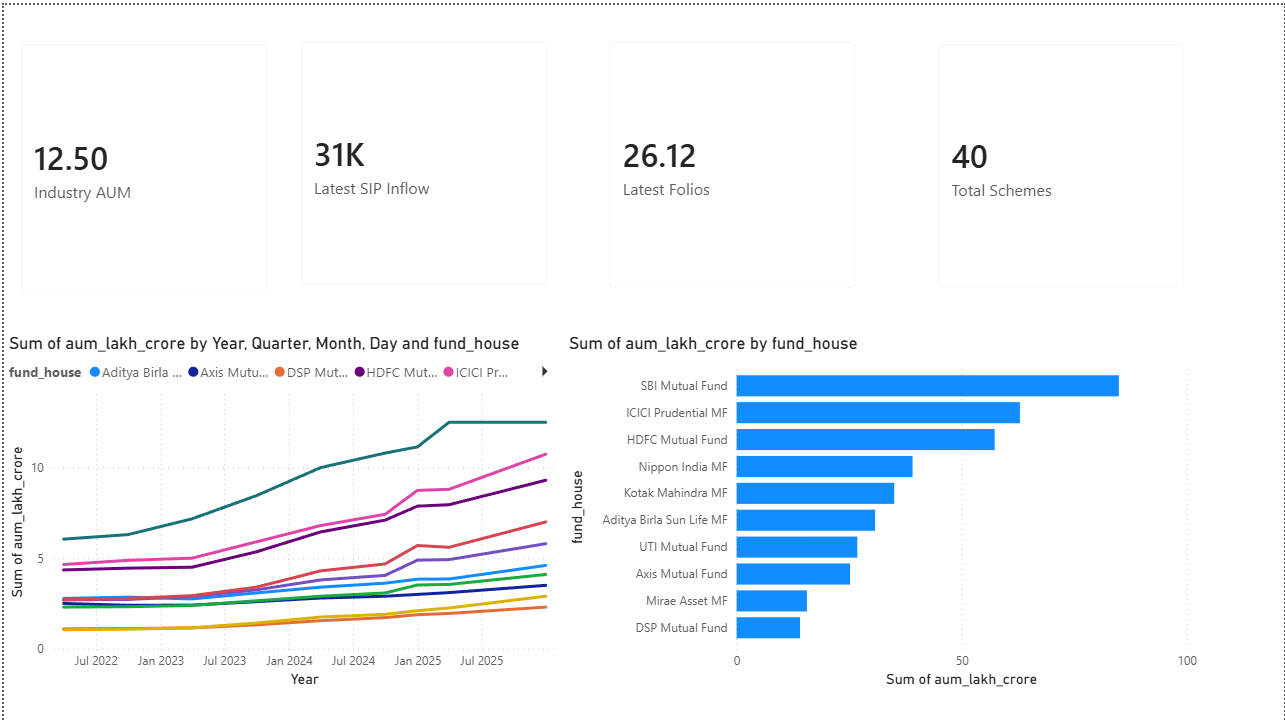

This screenshot's page, from the dashboard's own definition file:
{"tool":"powerbi","page":{"name":"Industry Overview","canvas":[1280,720],"ordinal":0},"visuals":[{"type":"cardVisual","fields":{"Data":["03_aum_by_fund_house.Industry AUM"]},"box":[0,22.9,280.5,280.5],"z":0},{"type":"cardVisual","fields":{"Data":["04_monthly_sip_inflows.Latest SIP Inflow"]},"box":[280.5,20.4,280.5,277.9],"z":1},{"type":"cardVisual","fields":{"Data":["06_industry_folio_count.Latest Folios"]},"box":[589,20.4,280.5,280.5],"z":2},{"type":"cardVisual","fields":{"Data":["07_scheme_performance.Total Schemes"]},"box":[917.9,22.9,280.5,277.9],"z":3},{"type":"lineChart","fields":{"Category":["03_aum_by_fund_house.date.Variation.Date Hierarchy.Year","03_aum_by_fund_house.date.Variation.Date Hierarchy.Quarter","03_aum_by_fund_house.date.Variation.Date Hierarchy.Month","03_aum_by_fund_house.date.Variation.Date Hierarchy.Day"],"Y":["Sum(03_aum_by_fund_house.aum_lakh_crore)"],"Series":["03_aum_by_fund_house.fund_house"]},"box":[0,328,560,360],"z":4},{"type":"clusteredBarChart","fields":{"Category":["03_aum_by_fund_house.fund_house"],"Y":["Sum(03_aum_by_fund_house.aum_lakh_crore)"]},"box":[560,328,638,360],"z":5}]}

Visuals, with their boxes in screenshot pixels (x1, y1, x2, y2), scaled from the page's 1280x720 canvas onto the 1285x722 screenshot:
cardVisual - 03_aum_by_fund_house.Industry AUM: <region>0, 23, 282, 304</region>
cardVisual - 04_monthly_sip_inflows.Latest SIP Inflow: <region>282, 20, 563, 299</region>
cardVisual - 06_industry_folio_count.Latest Folios: <region>591, 20, 873, 302</region>
cardVisual - 07_scheme_performance.Total Schemes: <region>921, 23, 1203, 302</region>
lineChart - 03_aum_by_fund_house.date.Variation.Date Hierarchy.Year x 03_aum_by_fund_house.date.Variation.Date Hierarchy.Quarter: <region>0, 329, 562, 690</region>
clusteredBarChart - 03_aum_by_fund_house.fund_house x Sum(03_aum_by_fund_house.aum_lakh_crore): <region>562, 329, 1203, 690</region>
